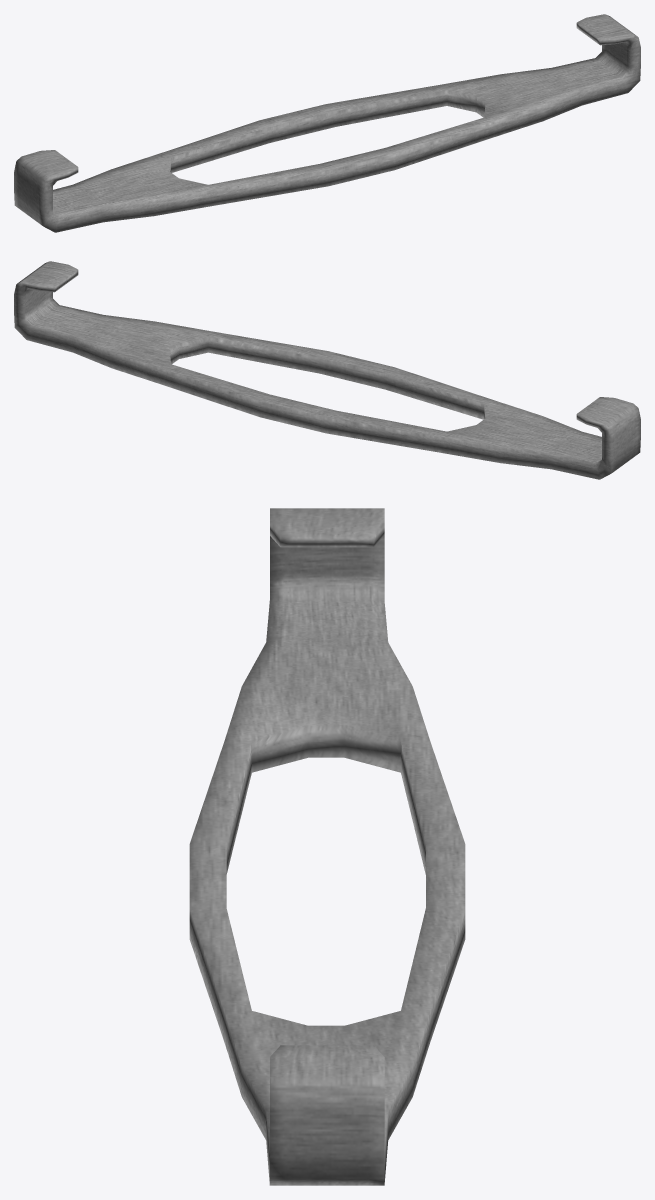
File: retractor_2.fbx
3 renders of one model, top to bottom at view 1: azimuth 30°, elevation 25°; view 2: azimuth 150°, elevation 25°; view 3: azimuth 270°, elevation 25°, orthographic. The views are drawn at different scales.
Parts seen in each view (by area): view 1: retractor.001; view 2: retractor.001; view 3: retractor.001.
Part boxes in pixels (bbox=[...]): retractor.001: bbox=[14, 14, 640, 232]; retractor.001: bbox=[14, 261, 640, 479]; retractor.001: bbox=[189, 508, 465, 1185].
Bounding box in the file's own units: 2397 × 223 × 478.
